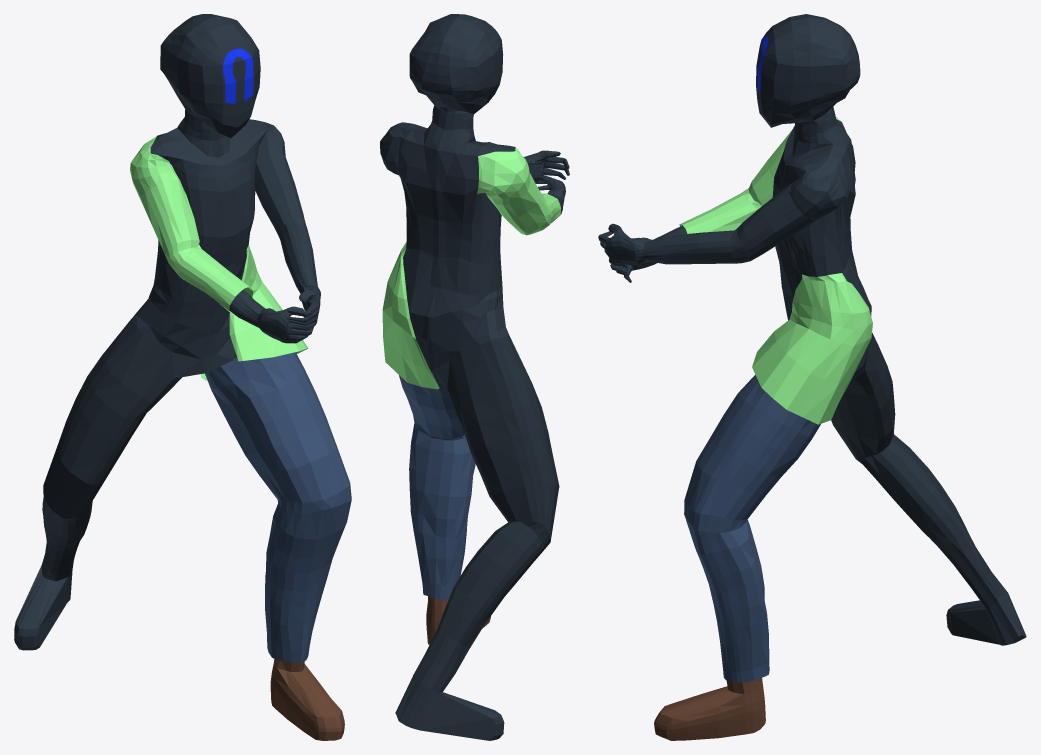
The model's file is Mar_WR_000006.obj.
3 renders of one model, left to right at view 1: azimuth 30°, elevation 25°; view 2: azimuth 150°, elevation 25°; view 3: azimuth 270°, elevation 25°, orthographic. The views are drawn at different scales.
Parts seen in each view (by area): view 1: Cube.000_Cube.001; view 2: Cube.000_Cube.001; view 3: Cube.000_Cube.001.
Boxes of the visible parts, bbox=[...] form: Cube.000_Cube.001: bbox=[14, 14, 351, 740]; Cube.000_Cube.001: bbox=[380, 14, 569, 740]; Cube.000_Cube.001: bbox=[598, 14, 1026, 740].
Bounding box in the file's own units: 1.25 × 3.73 × 2.09.
